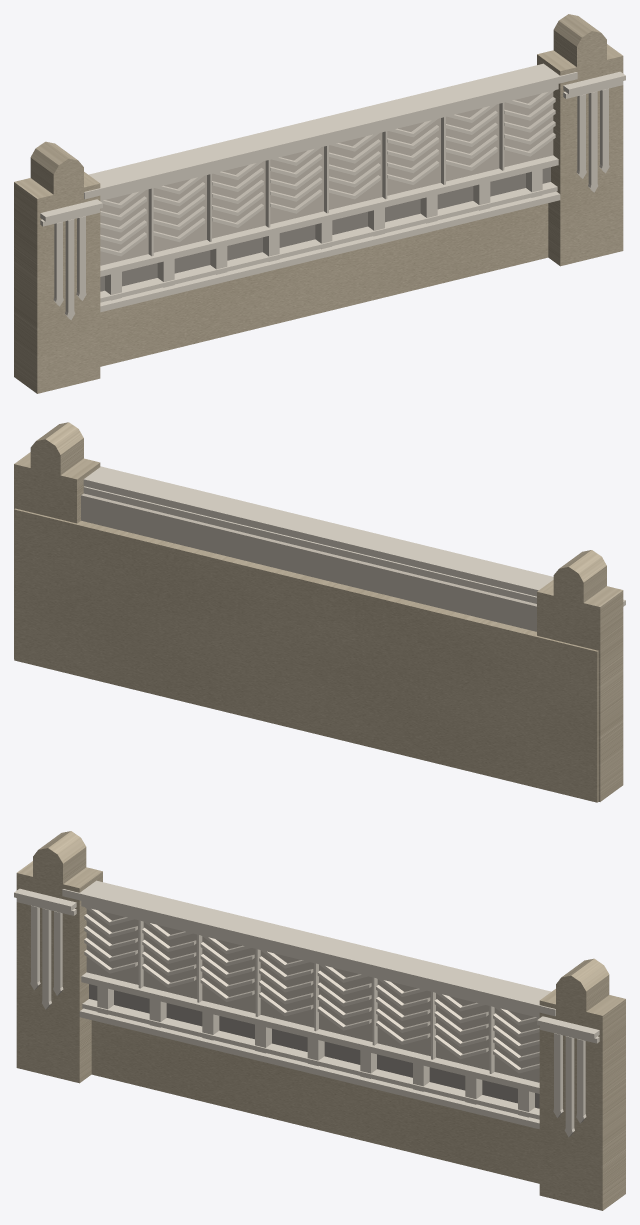
File: xiangyang-apartments-chevron-frieze-far.glb
The picture shows the model from 3 angles, top to bottom: view 1: azimuth 30°, elevation 25°; view 2: azimuth 150°, elevation 25°; view 3: azimuth 330°, elevation 25°; orthographic projection.
Visible parts, largest first — view 1: 襄阳公寓顶层折纹饰带与悬垂边柱; view 2: 襄阳公寓顶层折纹饰带与悬垂边柱; view 3: 襄阳公寓顶层折纹饰带与悬垂边柱.
Part boxes in pixels (<box>): 襄阳公寓顶层折纹饰带与悬垂边柱: <box>14,14,625,393</box>; 襄阳公寓顶层折纹饰带与悬垂边柱: <box>14,422,625,802</box>; 襄阳公寓顶层折纹饰带与悬垂边柱: <box>14,831,625,1210</box>.
Bounding box in the file's own units: 3.9 × 1.45 × 0.347.
Materials: 4 (1 with a texture image).
